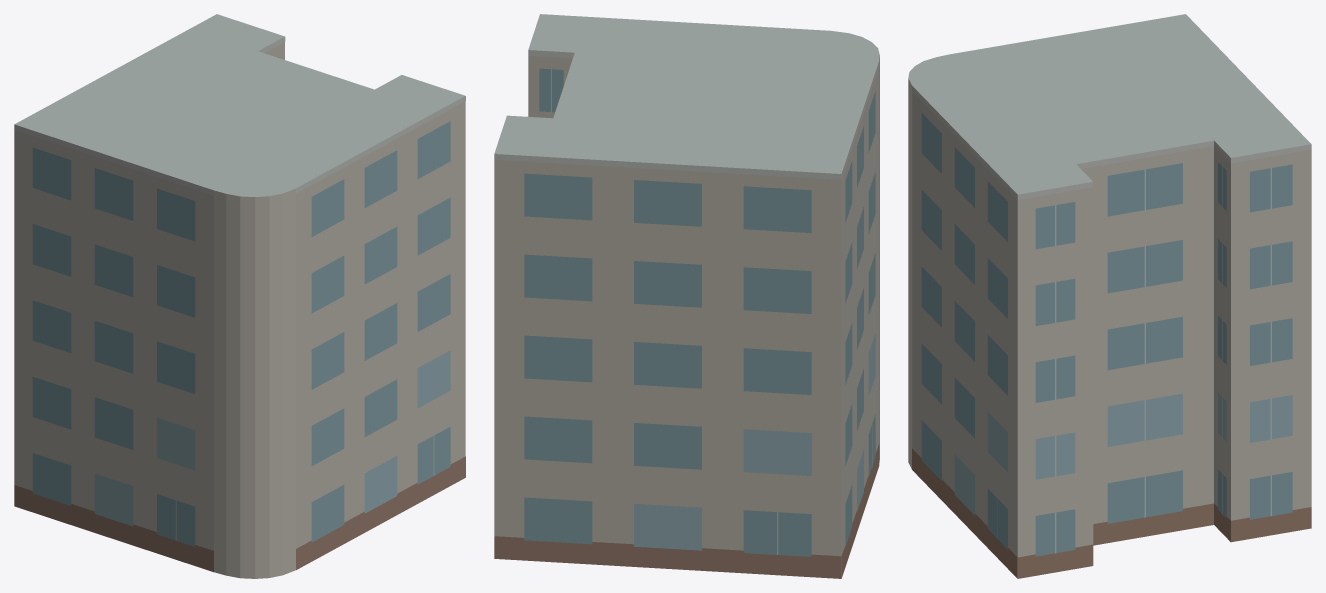
Rendered from survey-upis-32987917.glb.
The picture shows the model from 3 angles, left to right: view 1: azimuth 30°, elevation 25°; view 2: azimuth 150°, elevation 25°; view 3: azimuth 270°, elevation 25°; orthographic projection. The views are drawn at different scales.
Parts seen in each view (by area): view 1: survey-upis-32987917.tmp; view 2: survey-upis-32987917.tmp; view 3: survey-upis-32987917.tmp.
Part boxes in pixels (<box>): survey-upis-32987917.tmp: <box>14,14,465,578</box>; survey-upis-32987917.tmp: <box>494,14,879,578</box>; survey-upis-32987917.tmp: <box>908,14,1311,578</box>.
Size of the model in its own units: 17.21 by 17.06 by 16.23.
